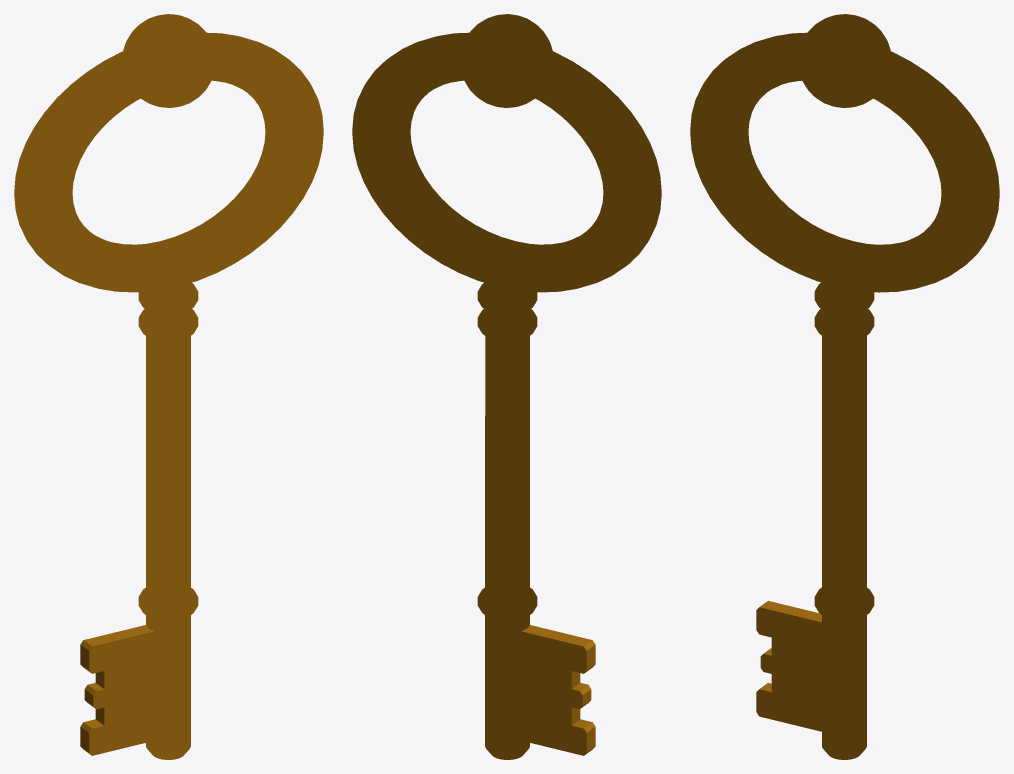
The model's file is goldenKey.fbx.
3 views of the same model, side by side, from view 1: azimuth 30°, elevation 25°; view 2: azimuth 150°, elevation 25°; view 3: azimuth 330°, elevation 25° (orthographic).
Parts seen in each view (by area): view 1: key_0; view 2: key_0; view 3: key_0.
Boxes of the visible parts, x1,y1,x2,y2 form: key_0: (14,14,323,759); key_0: (352,14,661,759); key_0: (690,14,999,759).
Bounding box in the file's own units: 3.44 × 8 × 0.929.
